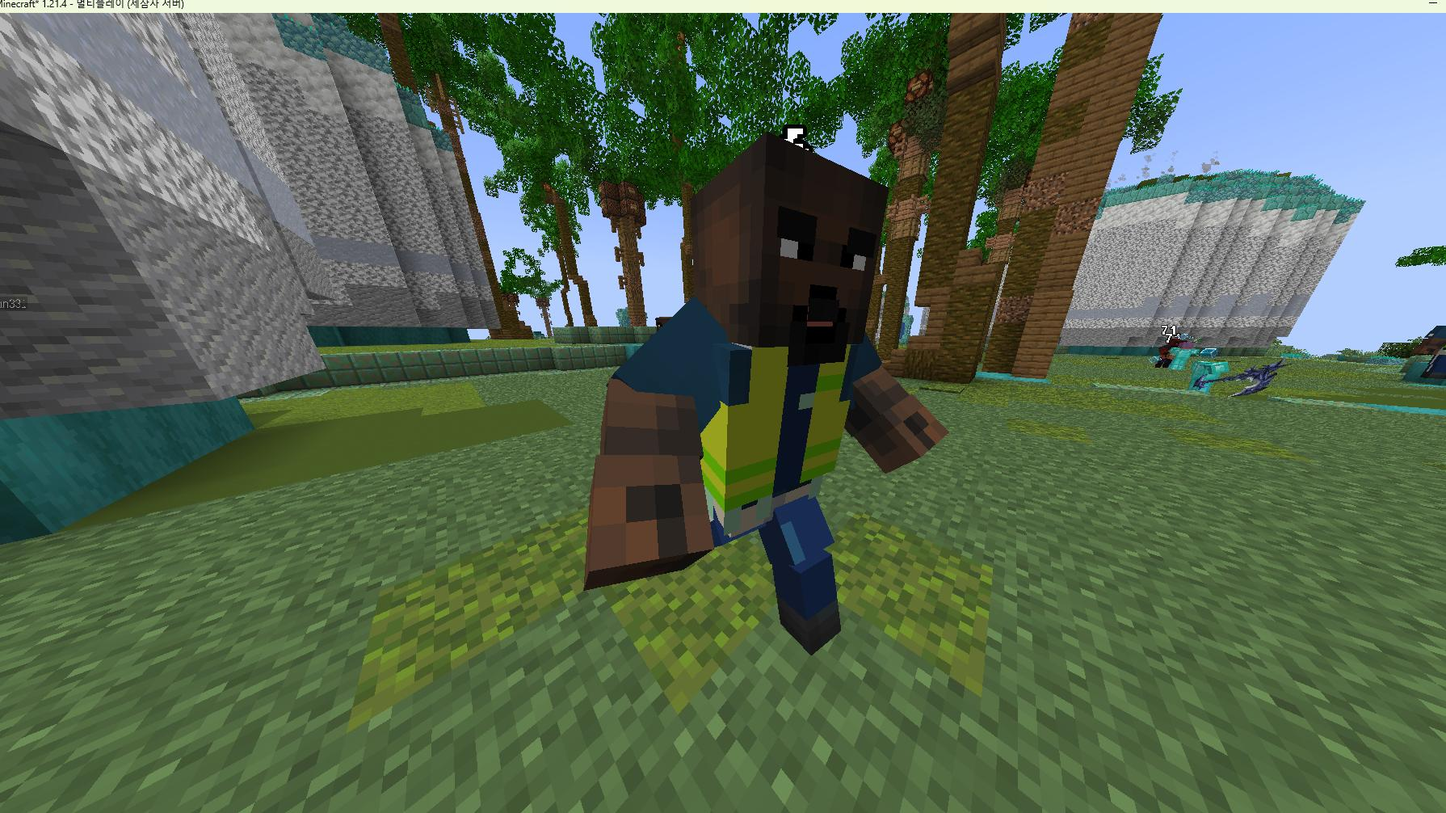Guardian: (586, 134, 947, 654)
